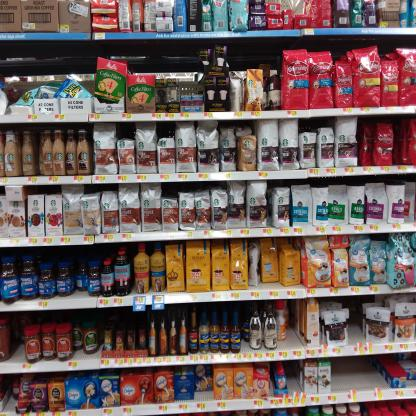Void: (334, 360, 380, 383), (287, 306, 302, 349), (287, 365, 304, 395), (10, 320, 22, 358), (396, 121, 406, 166), (350, 298, 360, 340)
